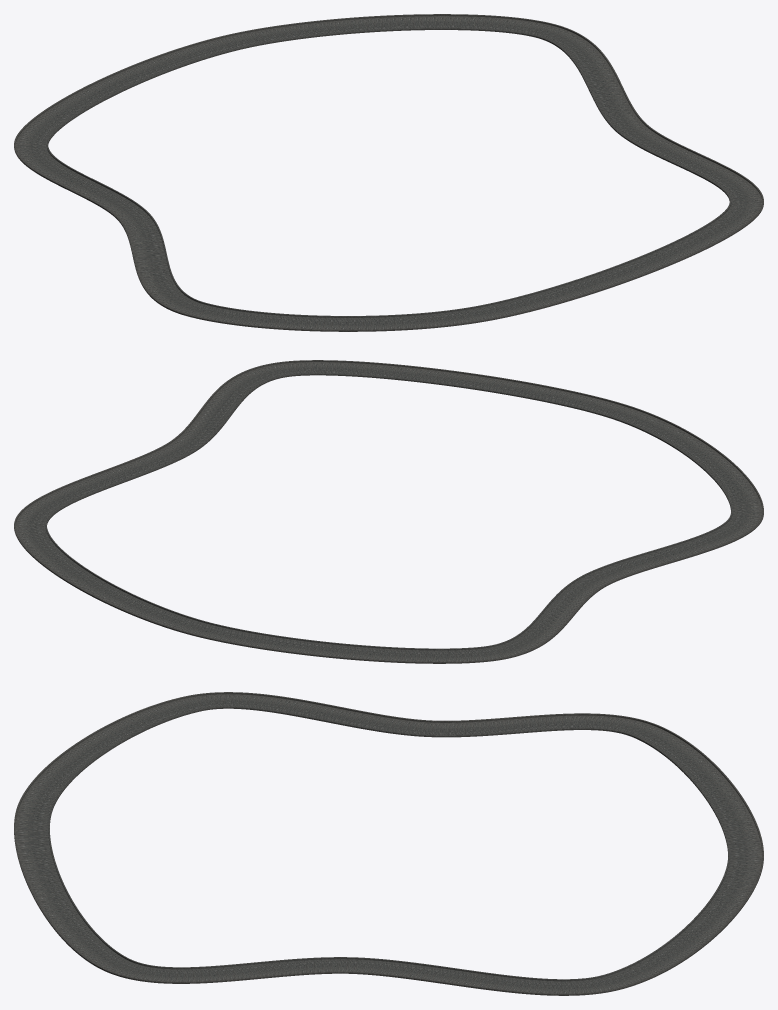
The model's file is Road.obj.
The picture shows the model from 3 angles, top to bottom: view 1: azimuth 30°, elevation 25°; view 2: azimuth 150°, elevation 25°; view 3: azimuth 270°, elevation 25°; orthographic projection. The views are drawn at different scales.
Parts seen in each view (by area): view 1: Track01; view 2: Track01; view 3: Track01.
Boxes of the visible parts, x1,y1,x2,y2 form: Track01: [14, 14, 763, 331]; Track01: [14, 360, 763, 663]; Track01: [14, 692, 763, 995].
Size of the model in its own units: 4.56 by 0.011 by 4.79.
1 material, 1 textured.
